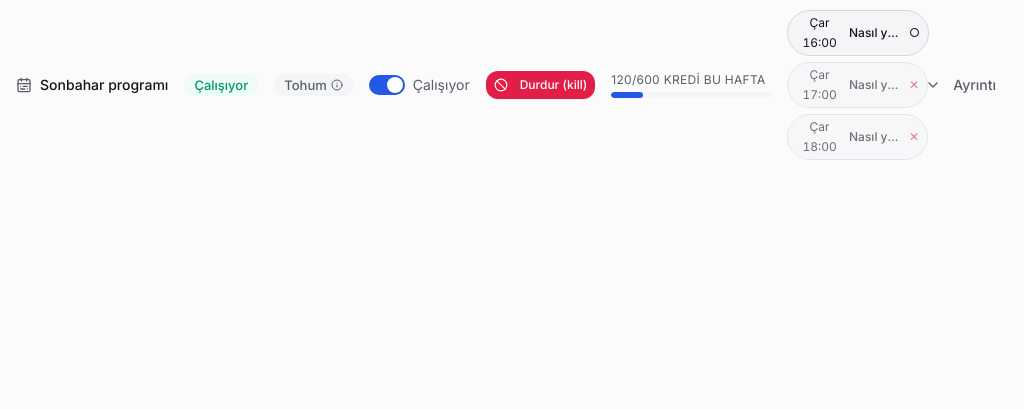
ProgrammePanel — slot editor › Yeniden üret follows the backend: off for PLANNED, on for FAILED with an item; Tekrar dene on every FAILED slot
Click the button with test id "programme-chip" at point(858, 33), box [787,10,929,56]
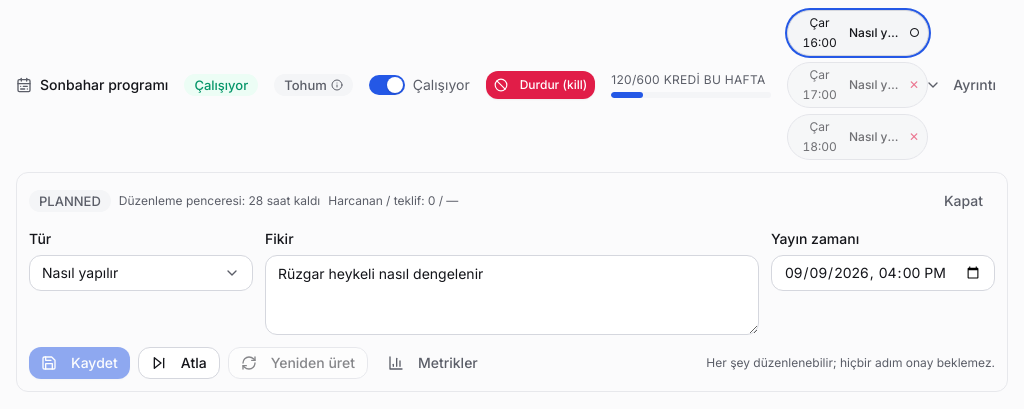
Expected: the button "Tekrar dene" is not shown
Result: the button "Yeniden üret" is disabled at [228,347,368,379]
Result: the button "Atla" is enabled at [138,347,220,379]
Click the button with test id "programme-chip" at point(858, 85), box [787,62,928,108]
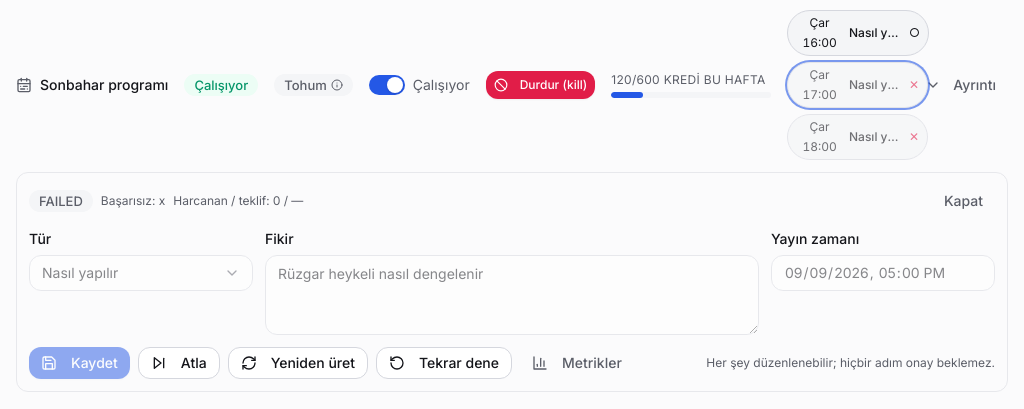
Result: the button "Atla" is enabled at [138,347,220,379]
Result: the button "Yeniden üret" is enabled at [228,347,368,379]
Click the button "Tekrar dene" at point(444, 363), box [376,347,512,379]
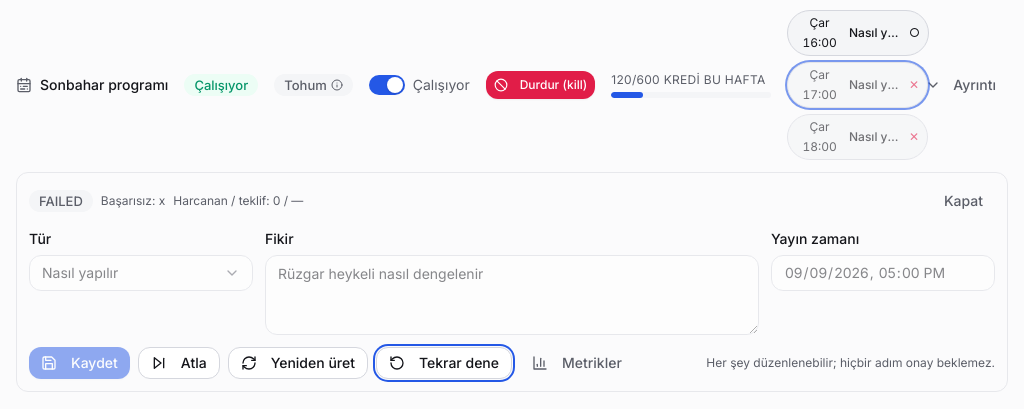
Click the button with test id "programme-chip" at point(858, 137), box [787,114,928,160]
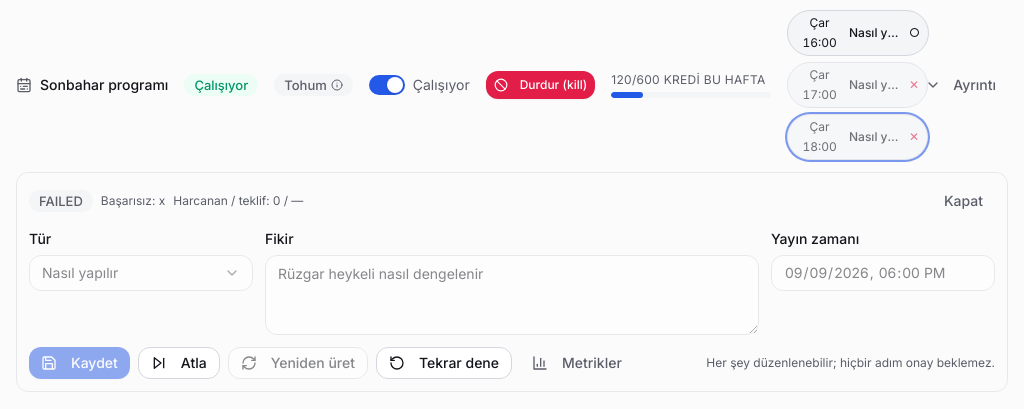
Result: the button "Tekrar dene" is enabled at [376,347,512,379]
Result: the button "Yeniden üret" is disabled at [228,347,368,379]
